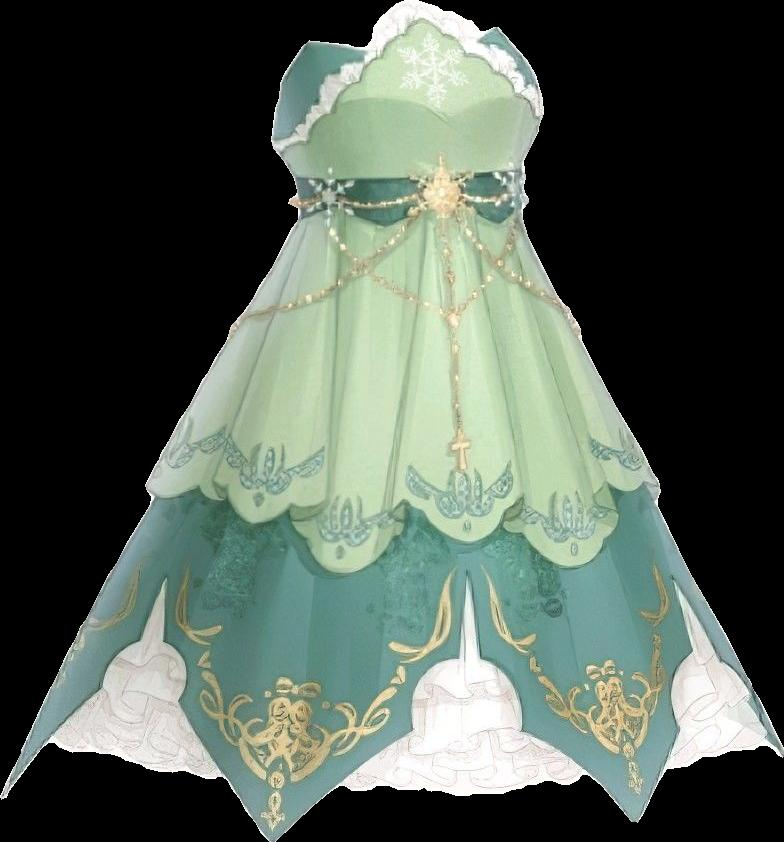Bodice: (270, 0, 543, 226)
Hemline: (3, 738, 783, 841), (147, 476, 666, 576)
Neckline: (268, 0, 528, 141)
Skirt: (0, 211, 783, 841)
Waistline: (294, 201, 529, 228)
